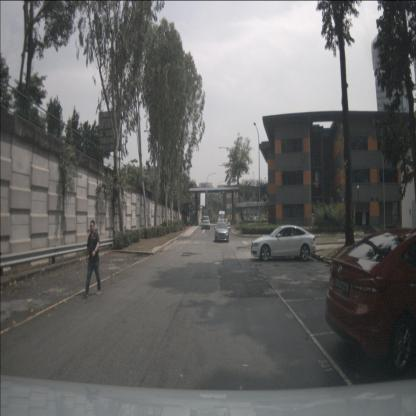human-pedestrian-adult: (82, 220, 102, 297)
vehicle-car: (324, 226, 416, 373), (251, 224, 316, 260), (214, 222, 230, 242), (218, 211, 226, 226), (202, 215, 210, 230), (252, 216, 262, 223)
